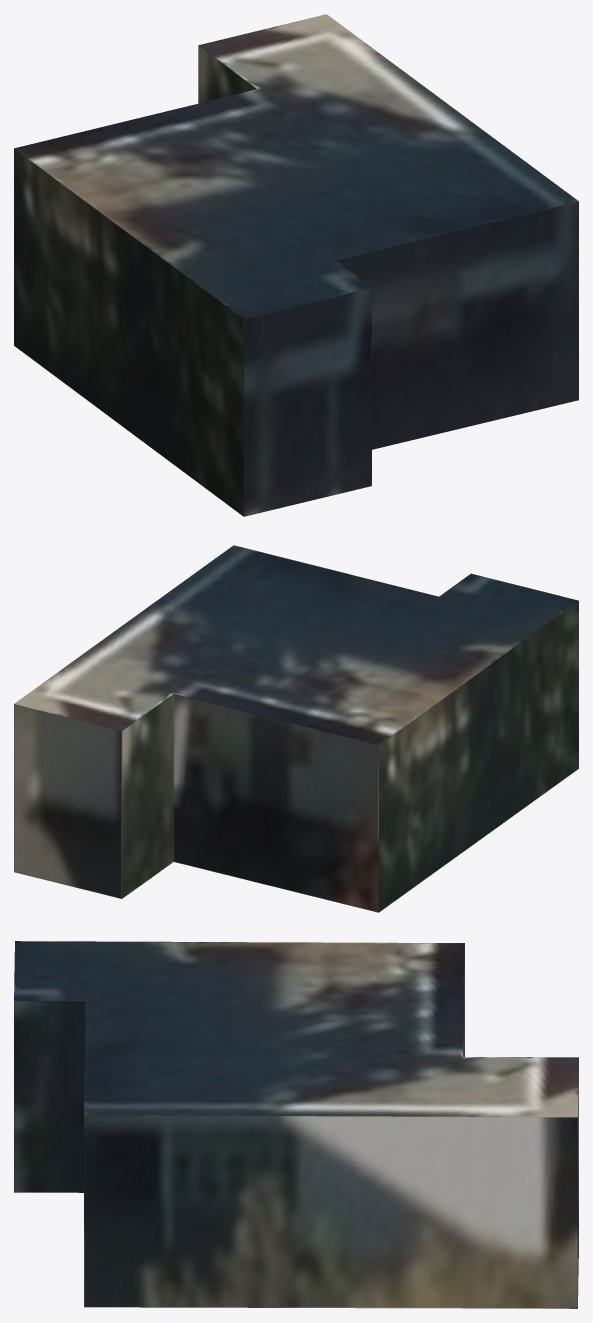
Rendered from talo_build0000080_rotated.obj.
3 renders of one model, top to bottom at view 1: azimuth 30°, elevation 25°; view 2: azimuth 150°, elevation 25°; view 3: azimuth 270°, elevation 25°, orthographic. The views are drawn at different scales.
Visible parts, largest first — view 1: talo_Build0000080; view 2: talo_Build0000080; view 3: talo_Build0000080.
Part boxes in pixels (bbox=[...]): talo_Build0000080: bbox=[14, 14, 578, 516]; talo_Build0000080: bbox=[14, 545, 578, 912]; talo_Build0000080: bbox=[14, 941, 578, 1308].
Size of the model in its own units: 0.7625 by 0.3873 by 1.03.
